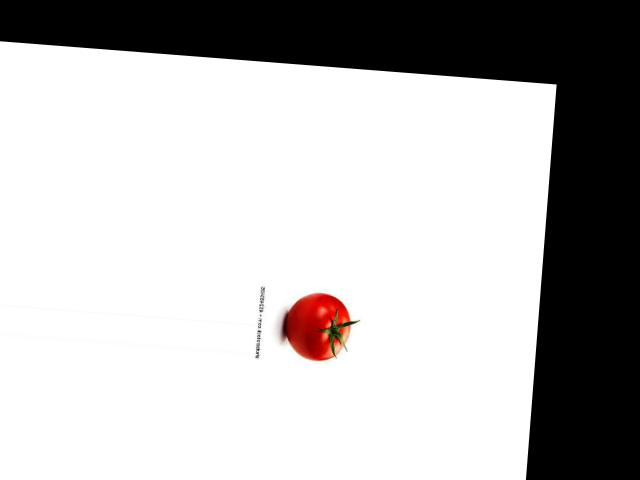tomato: (283, 291, 352, 361)
